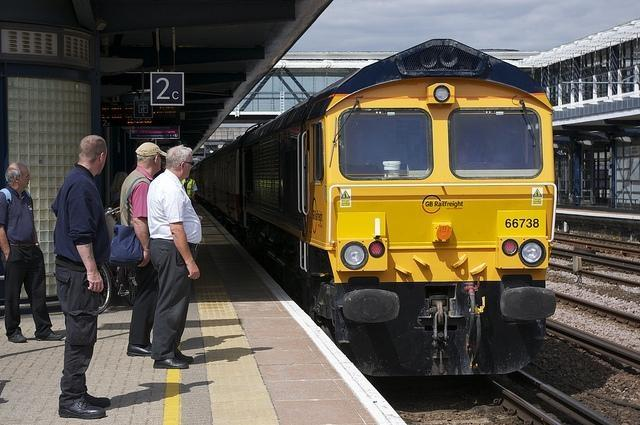bicycle: (98, 263, 136, 315)
